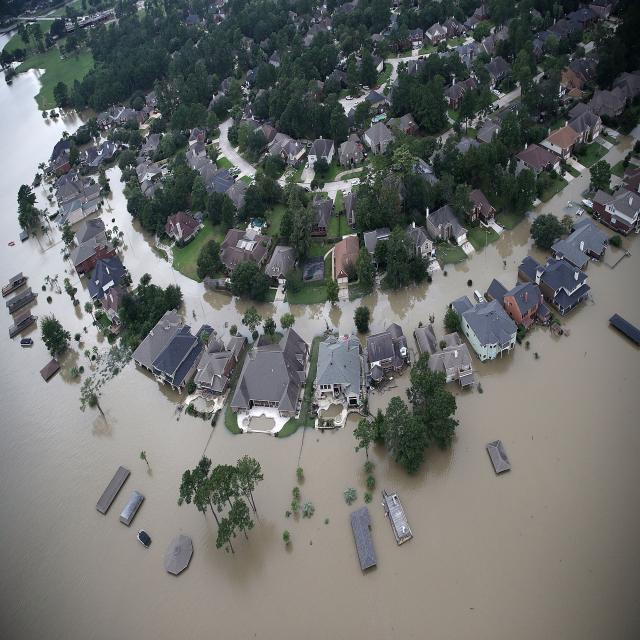flooded_areas: (161, 263, 568, 640), (445, 127, 639, 640), (4, 105, 159, 640)
